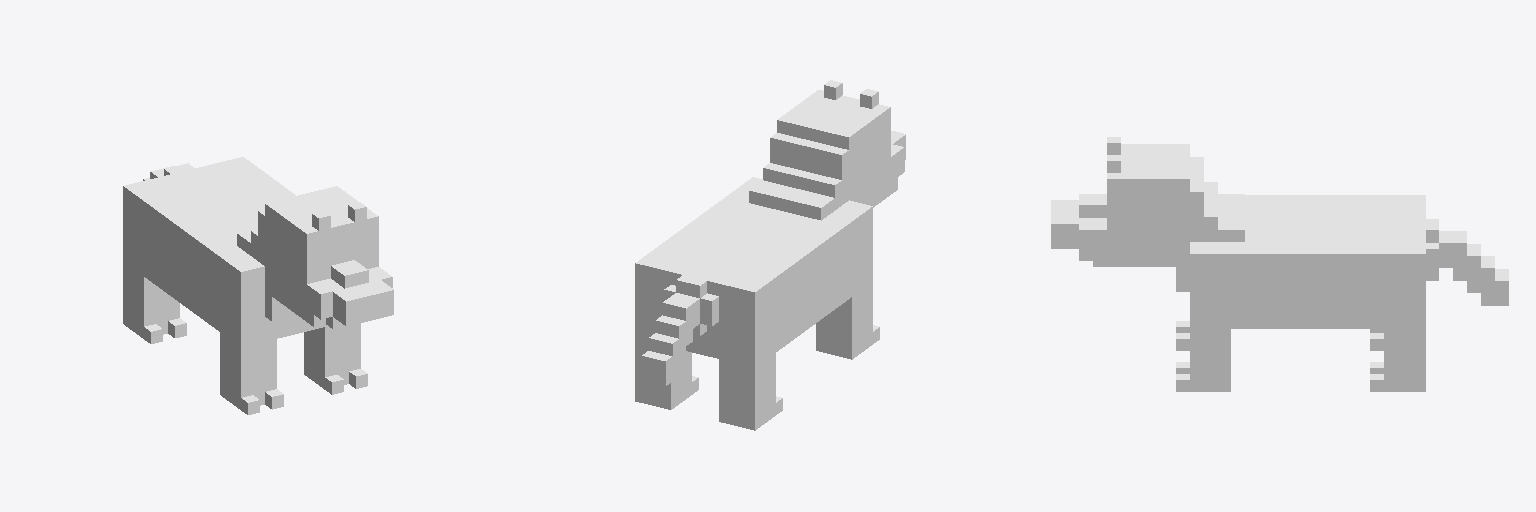
File: wolf_forward.obj
3 renders of one model, left to right at view 1: azimuth 30°, elevation 25°; view 2: azimuth 150°, elevation 25°; view 3: azimuth 270°, elevation 25°, orthographic.
Visible parts, largest first — view 1: object 1; view 2: object 1; view 3: object 1.
Part boxes in pixels (x1,y1,x2,y2): object 1: (123,157,393,414); object 1: (635,80,905,430); object 1: (1051,137,1508,391).
Size of the model in its own units: 1 by 1.7 by 3.3.